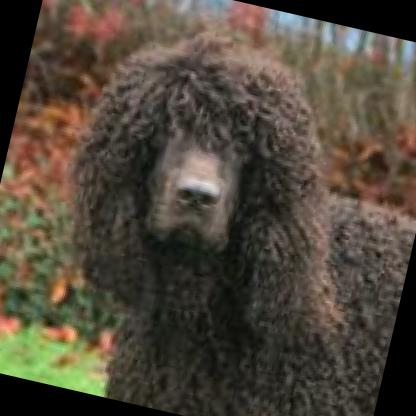Irish_water_spaniel: (12, 1, 416, 416)
